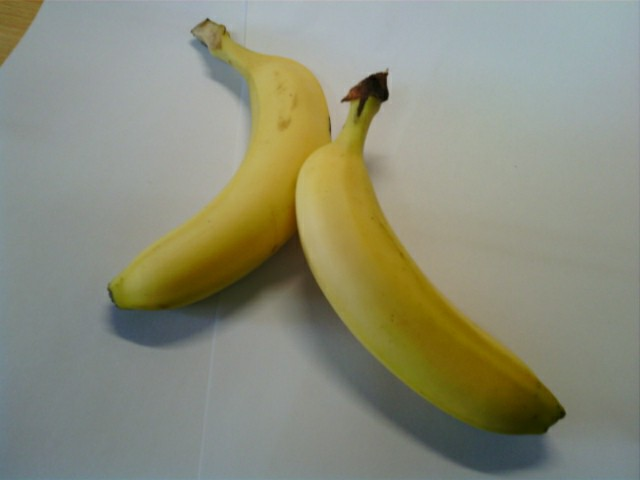fresh_banana: (292, 133, 565, 438), (103, 47, 335, 317)
